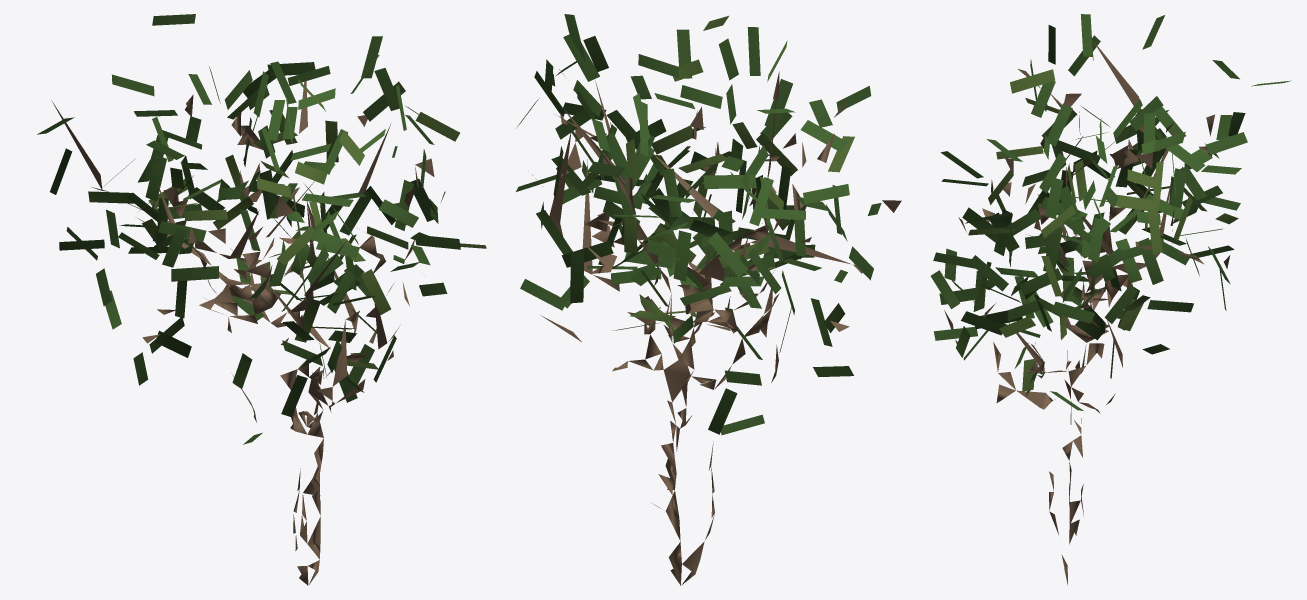
Rendered from arvore_2_muito_longe.glb.
3 renders of one model, left to right at view 1: azimuth 30°, elevation 25°; view 2: azimuth 150°, elevation 25°; view 3: azimuth 270°, elevation 25°, orthographic. The views are drawn at different scales.
Parts seen in each view (by area): view 1: arvore_2_muito_longe; view 2: arvore_2_muito_longe; view 3: arvore_2_muito_longe.
Part boxes in pixels (x1,y1,x2,y2): arvore_2_muito_longe: [37, 14, 486, 585]; arvore_2_muito_longe: [516, 14, 901, 585]; arvore_2_muito_longe: [930, 14, 1291, 585].
Size of the model in its own units: 1.93 by 2.72 by 1.71.
